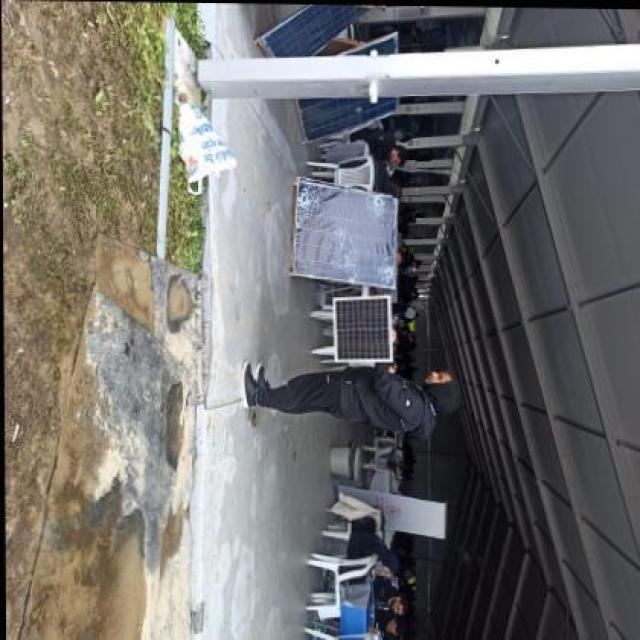cracked: (290, 178, 406, 291)
